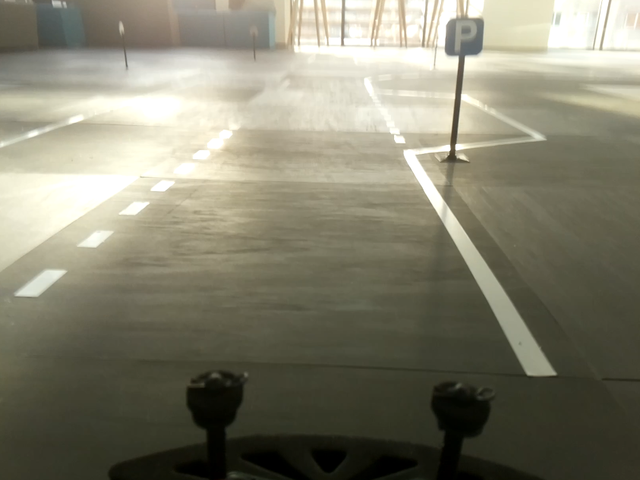parking: (444, 18, 484, 56)
